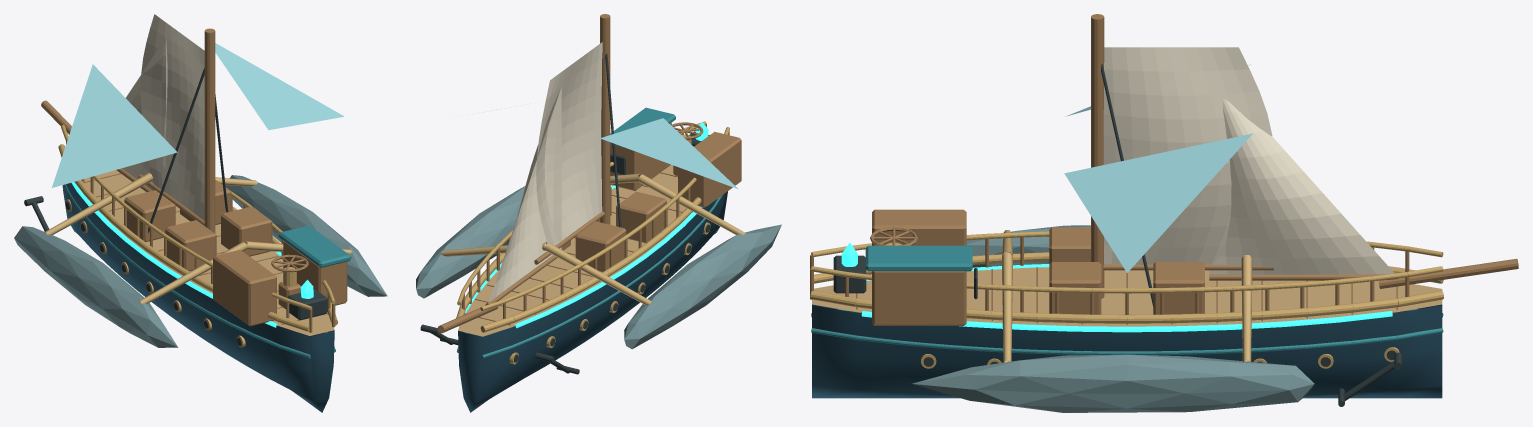
The model's file is ship_barque.glb.
3 views of the same model, side by side, from view 1: azimuth 30°, elevation 25°; view 2: azimuth 150°, elevation 25°; view 3: azimuth 270°, elevation 25° (orthographic). The views are drawn at different scales.
Visible parts, largest first — view 1: ship_barque; view 2: ship_barque; view 3: ship_barque.
Boxes of the visible parts, x1,y1,x2,y2 form: ship_barque: (14,14,387,412); ship_barque: (416,14,781,412); ship_barque: (810,14,1518,412).
Bounding box in the file's own units: 5.8 × 5.68 × 9.56.
